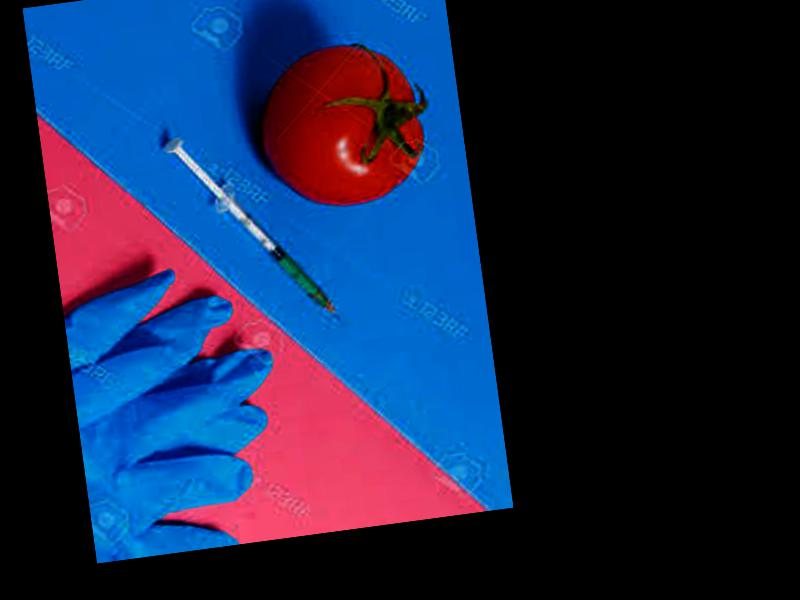Tomato: (249, 39, 429, 215)
